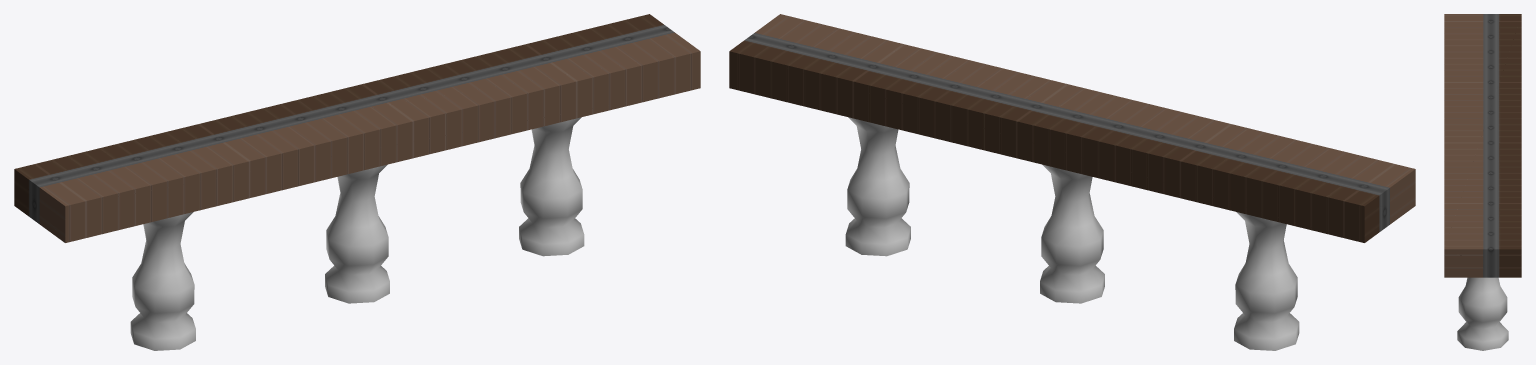
File: StraightRail.fbx
3 renders of one model, left to right at view 1: azimuth 30°, elevation 25°; view 2: azimuth 150°, elevation 25°; view 3: azimuth 270°, elevation 25°, orthographic. The views are drawn at different scales.
Parts seen in each view (by area): view 1: Cube.026; view 2: Cube.026; view 3: Cube.026.
Boxes of the visible parts, bbox=[...] form: Cube.026: bbox=[14, 14, 700, 350]; Cube.026: bbox=[729, 14, 1415, 350]; Cube.026: bbox=[1444, 14, 1521, 350].
Size of the model in its own units: 360 by 97.29 by 50.
